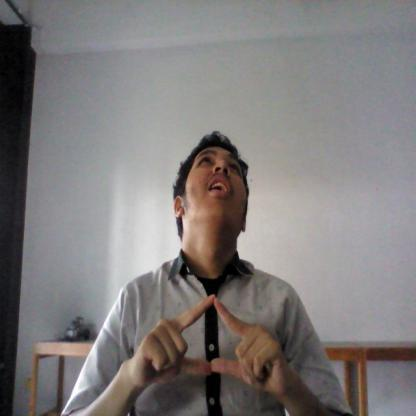A: (128, 292, 286, 395)
